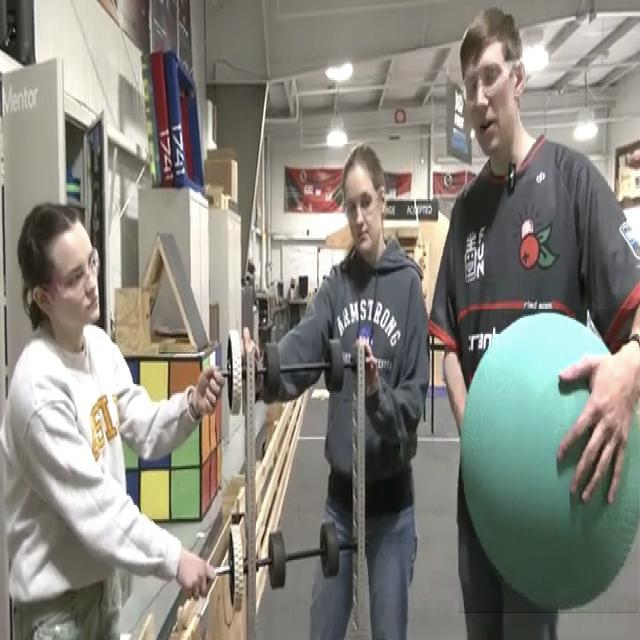Algae: (459, 310, 639, 614)
